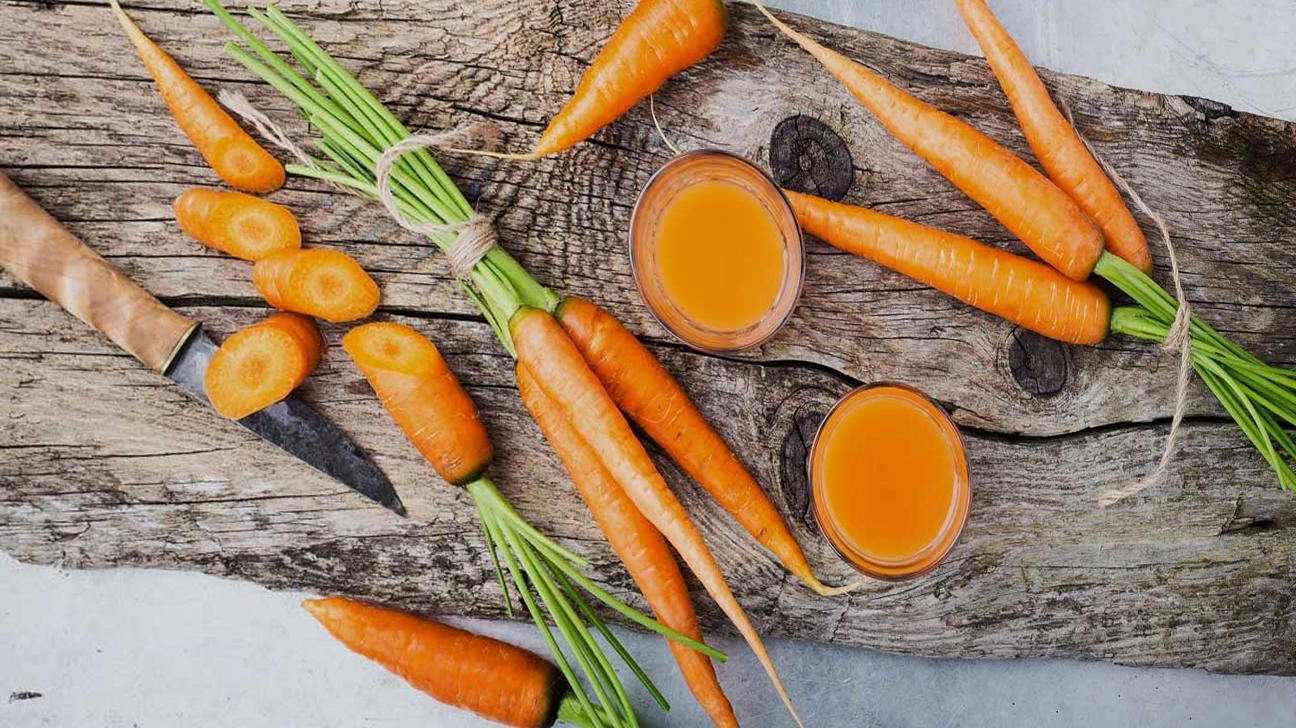carrot: (469, 270, 798, 717), (793, 26, 1163, 287), (815, 183, 1159, 353), (494, 0, 737, 184), (355, 311, 527, 519), (274, 266, 383, 333)
